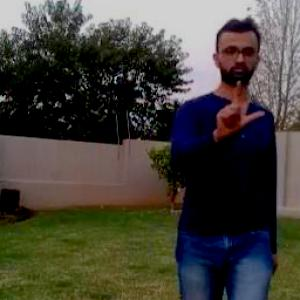land_hand: (209, 72, 270, 137)
